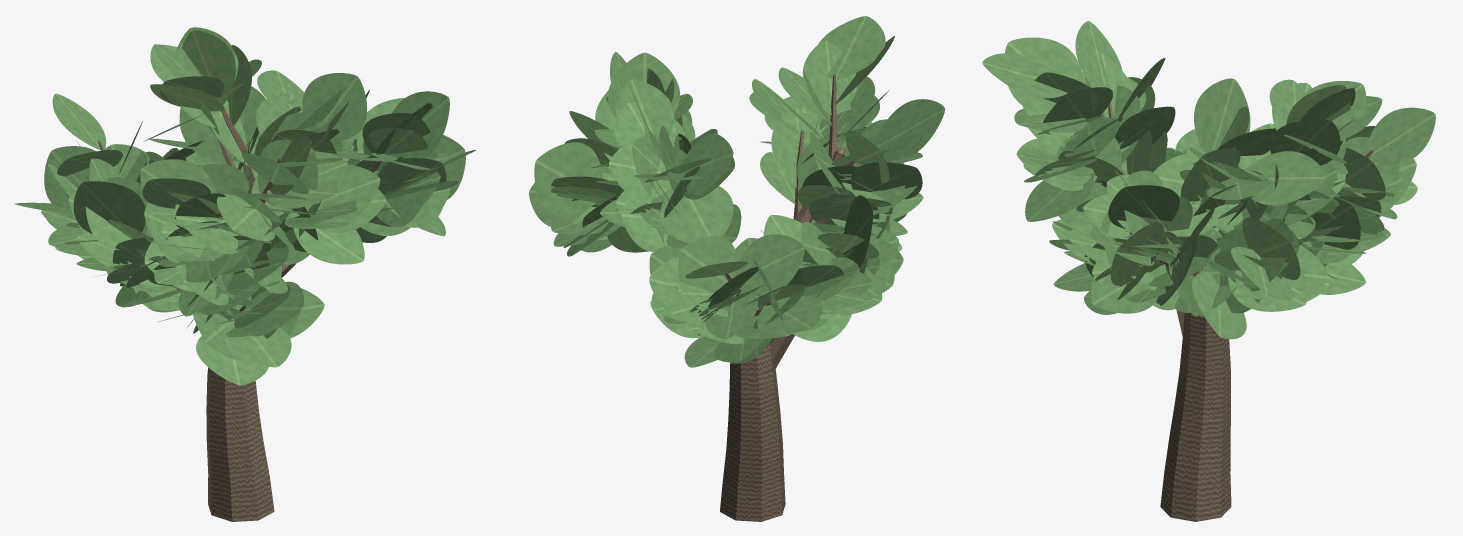
Rendered from 활엽수_01.fbx.
3 renders of one model, left to right at view 1: azimuth 30°, elevation 25°; view 2: azimuth 150°, elevation 25°; view 3: azimuth 270°, elevation 25°, orthographic. The views are drawn at different scales.
Parts seen in each view (by area): view 1: 활엽수_01; view 2: 활엽수_01; view 3: 활엽수_01.
Boxes of the visible parts, x1=… form: 활엽수_01: x1=14, y1=27, x2=476, y2=521; 활엽수_01: x1=529, y1=16, x2=945, y2=521; 활엽수_01: x1=982, y1=21, x2=1435, y2=521.
Bounding box in the file's own units: 5219 × 5974 × 5614.
